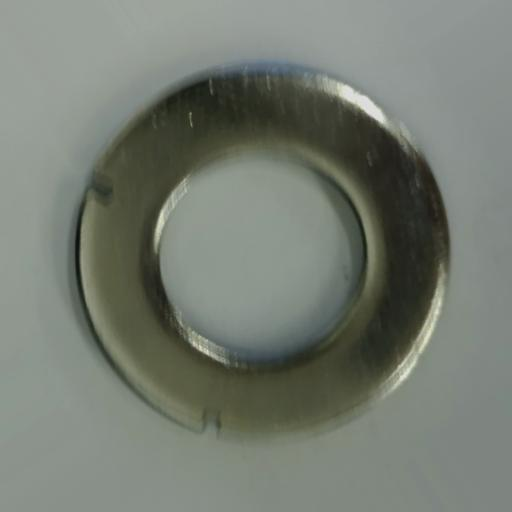burr: (86, 169, 115, 198), (200, 406, 223, 441)
